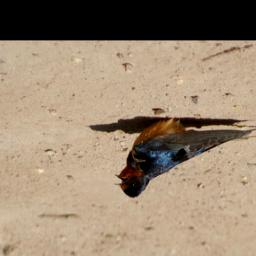Swallow: (115, 120, 256, 199)
